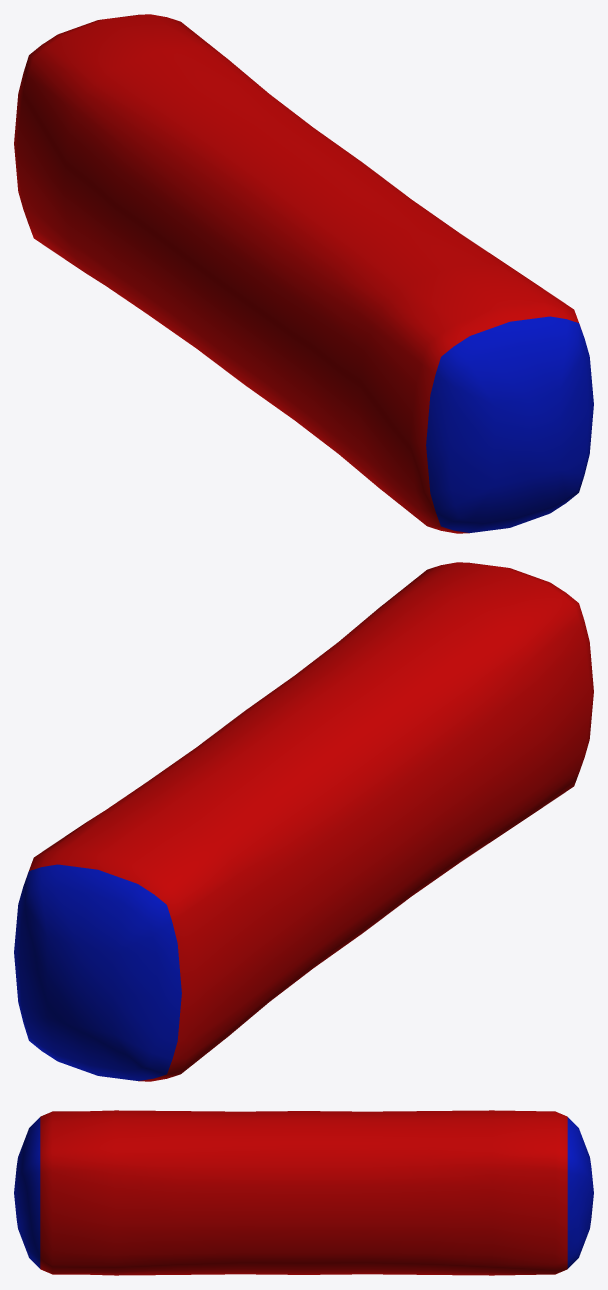
File: Snake-Beam-Webview.glb
The picture shows the model from 3 angles, top to bottom: view 1: azimuth 30°, elevation 25°; view 2: azimuth 150°, elevation 25°; view 3: azimuth 270°, elevation 25°; orthographic projection. The views are drawn at different scales.
Visible parts, largest first — view 1: Snake-Beam; view 2: Snake-Beam; view 3: Snake-Beam.
Part boxes in pixels (x1=…): Snake-Beam: x1=14, y1=14, x2=593, y2=533; Snake-Beam: x1=14, y1=562, x2=593, y2=1081; Snake-Beam: x1=14, y1=1110, x2=593, y2=1275.
Size of the model in its own units: 0.8155 by 0.9573 by 3.42.
